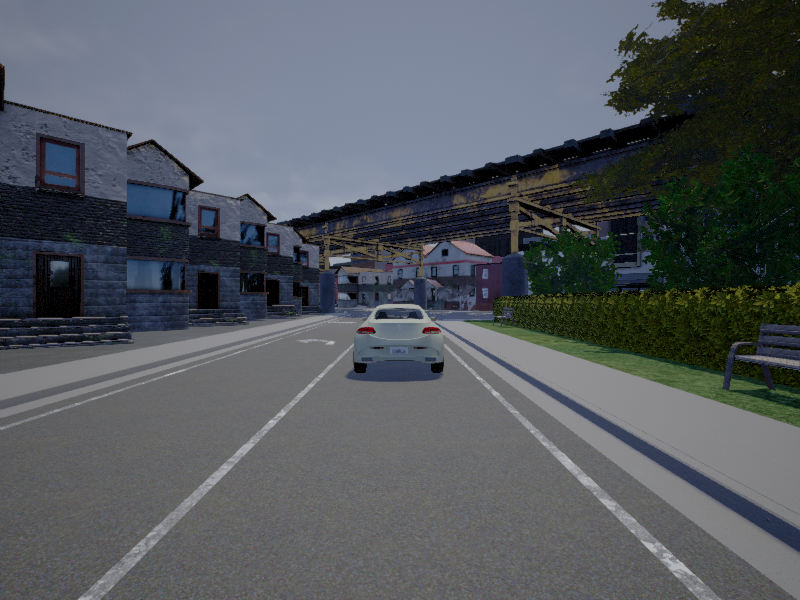Benign: (353, 304, 443, 373)
